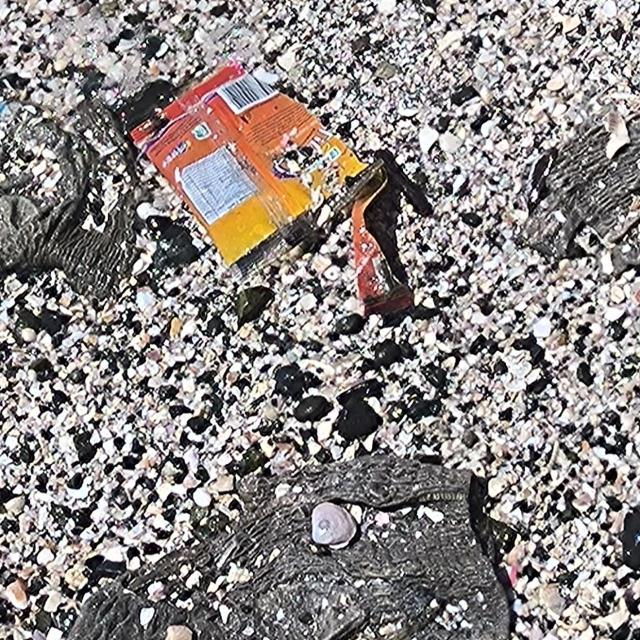plastic_waste: (129, 52, 409, 270)
